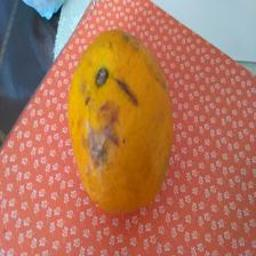Orange Semifresh: (53, 22, 191, 224)
